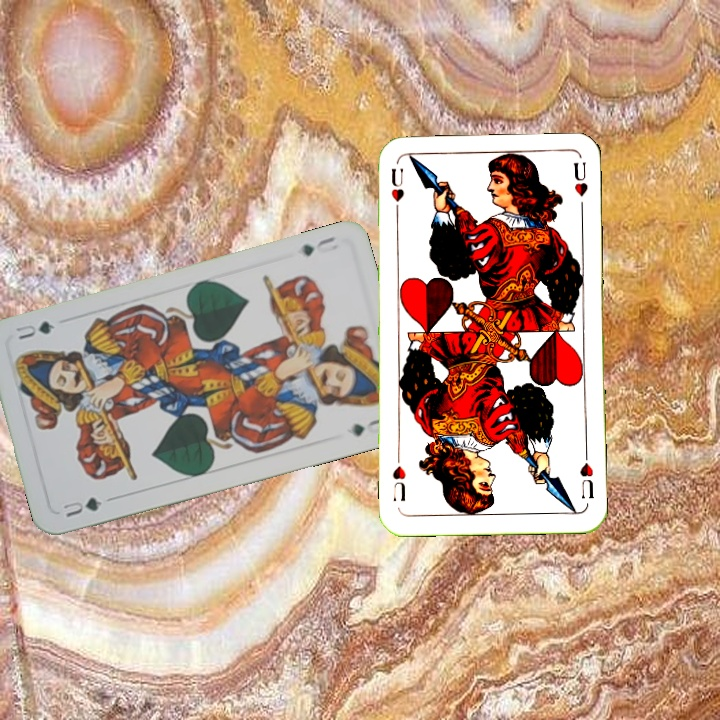GU: (56, 493, 105, 520), (298, 232, 338, 259)
HU: (576, 448, 597, 502), (387, 164, 407, 220)
